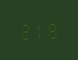eight: (45, 19, 57, 39)
one: (32, 20, 44, 39)
two: (18, 20, 30, 40)
